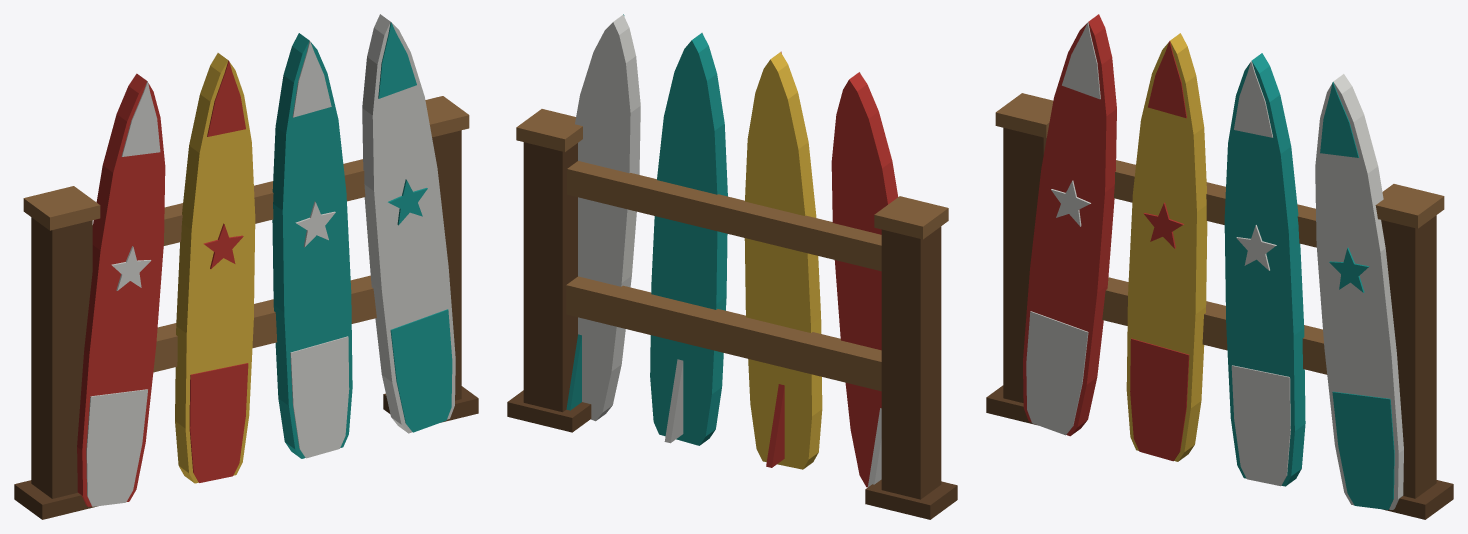
File: Decor_BeachBar_Surfboards.fbx
The picture shows the model from 3 angles, left to right: view 1: azimuth 30°, elevation 25°; view 2: azimuth 150°, elevation 25°; view 3: azimuth 330°, elevation 25°; orthographic projection. The views are drawn at different scales.
Visible parts, largest first — view 1: Surfboards_Body; view 2: Surfboards_Body; view 3: Surfboards_Body.
Boxes of the visible parts, x1,y1,x2,y2 form: Surfboards_Body: [14, 14, 478, 519]; Surfboards_Body: [507, 14, 957, 519]; Surfboards_Body: [986, 14, 1453, 519].
Bounding box in the file's own units: 12.2 × 11.15 × 1.5.
